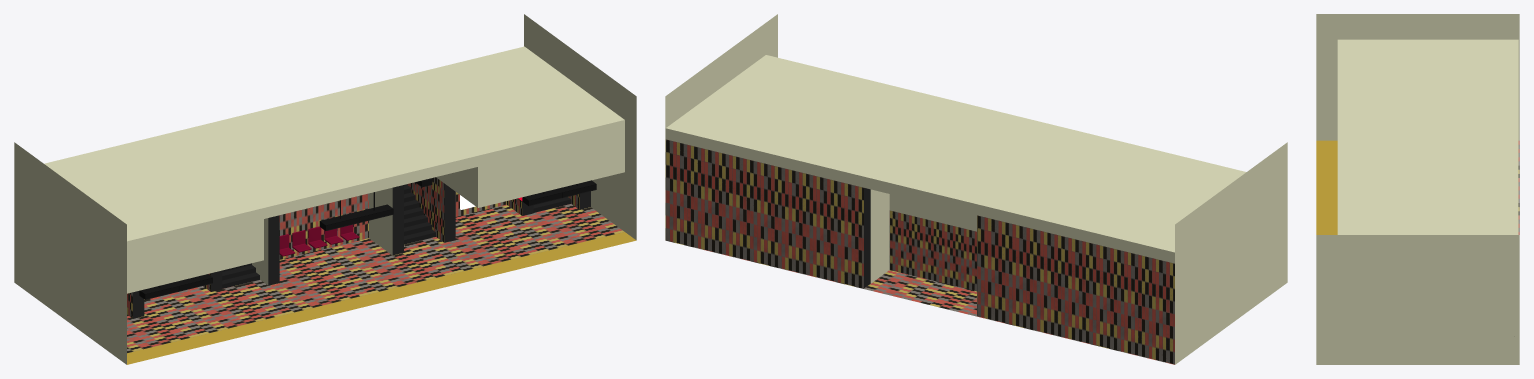
Rendered from montreal-stm-metro-station.glb.
The picture shows the model from 3 angles, left to right: view 1: azimuth 30°, elevation 25°; view 2: azimuth 150°, elevation 25°; view 3: azimuth 270°, elevation 25°; orthographic projection. The views are drawn at different scales.
Parts seen in each view (by area): view 1: Cube.008_3, floor_4, Plane.003_8, Cube.005_0, Plane.002_7, Cube.007_2, wall.005_13, wall.1_9, wall.big.1_18, wall.big.004_21, stairs.1_58, stairs2.001_61; view 2: Cube.008_3, wall.004_12, wall.009_17, Plane.003_8, wall.005_13, Plane.002_7, floor_4, wall.big.1_18, Cube.006_1; view 3: Cube.008_3, Plane.002_7, Plane.003_8, Cube.005_0, floor_4.
Part boxes in pixels (x1,y1,x2,y2): Cube.008_3: (44,46,624,252); floor_4: (127,204,636,364); Plane.003_8: (14,142,126,364); Cube.005_0: (436,131,624,207); Plane.002_7: (524,14,636,240); Cube.007_2: (127,219,263,293); wall.005_13: (279,193,368,259); wall.1_9: (407,177,455,242); wall.big.1_18: (369,185,403,255); wall.big.004_21: (252,215,279,285); stairs.1_58: (404,184,435,244); stairs2.001_61: (222,263,259,288); Cube.008_3: (665,55,1246,263); wall.004_12: (665,139,870,288); wall.009_17: (977,215,1174,364); Plane.003_8: (1175,142,1287,364); wall.005_13: (889,210,976,291); Plane.002_7: (665,14,777,239); floor_4: (665,240,1174,364); wall.big.1_18: (870,189,889,283); Cube.006_1: (889,194,976,231); Cube.008_3: (1337,39,1518,273); Plane.002_7: (1316,235,1519,364); Plane.003_8: (1316,14,1519,140); Cube.005_0: (1337,274,1472,311); floor_4: (1316,140,1519,234).
Size of the model in its own units: 144 by 39 by 55.2.
Materials: 15 (4 with a texture image).
